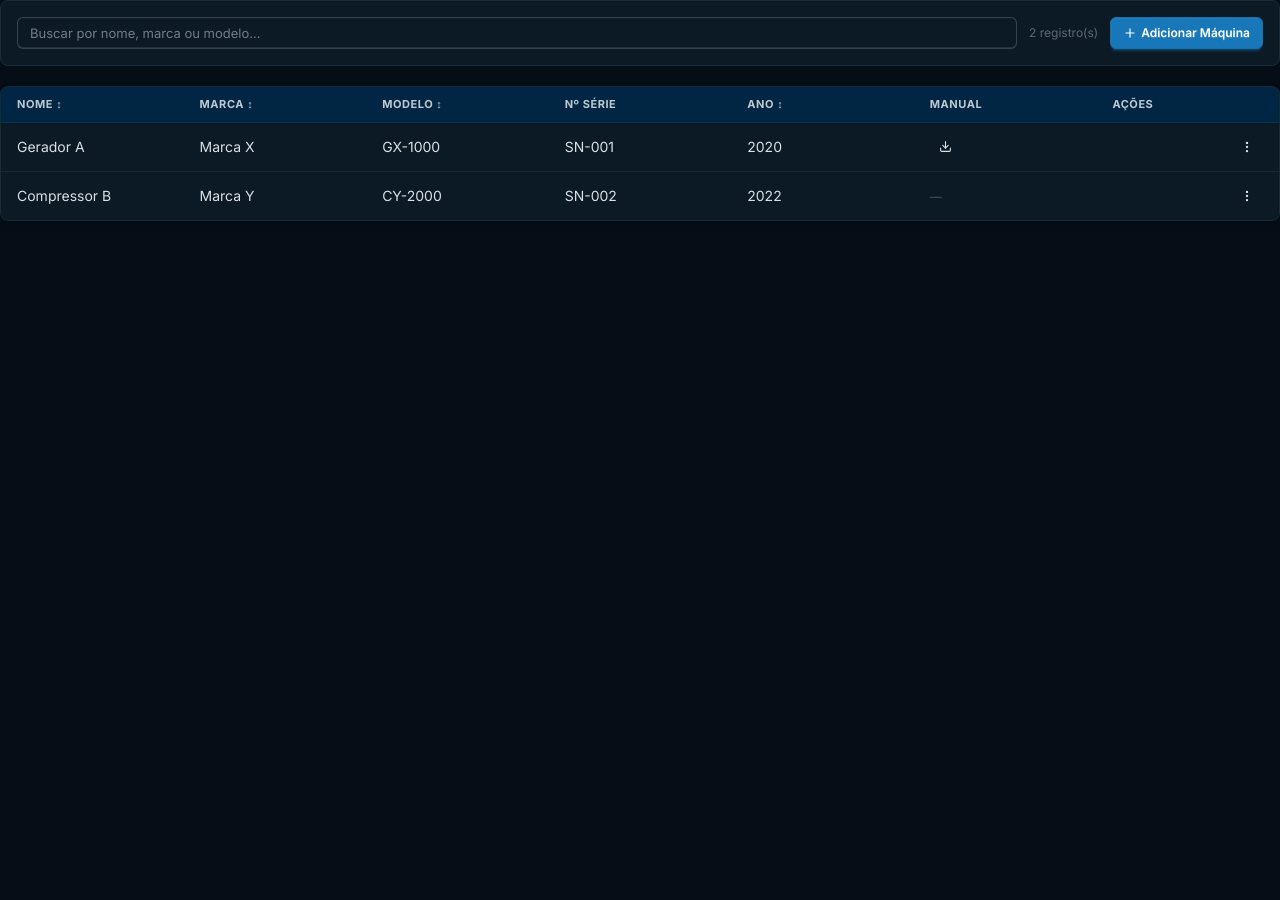
it: cancels delete confirmation
Click the 1st button named "Ações": {"x": 1247, "y": 147} [1231,135,1263,159]
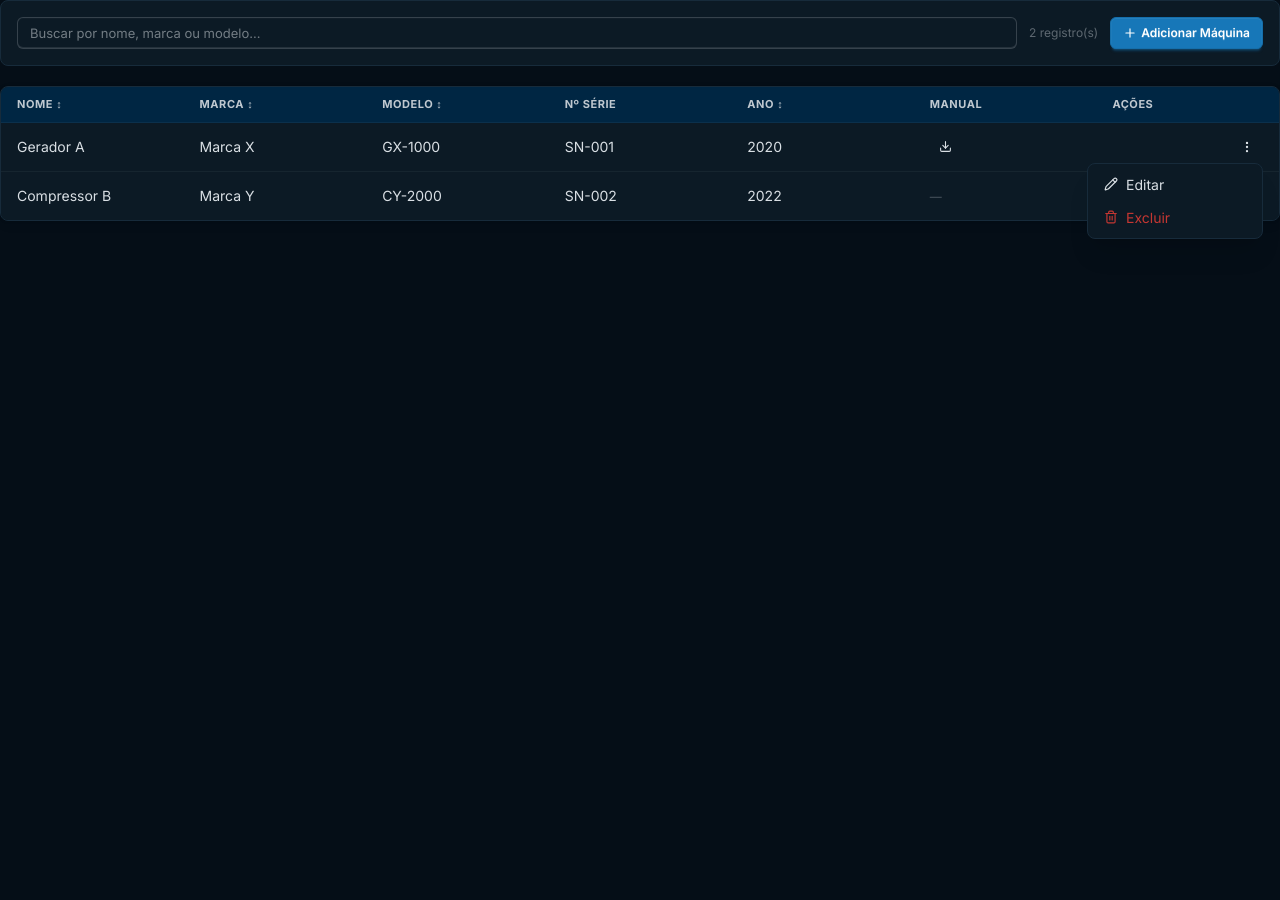
Click the button "Excluir": {"x": 1175, "y": 217} [1092,201,1258,234]
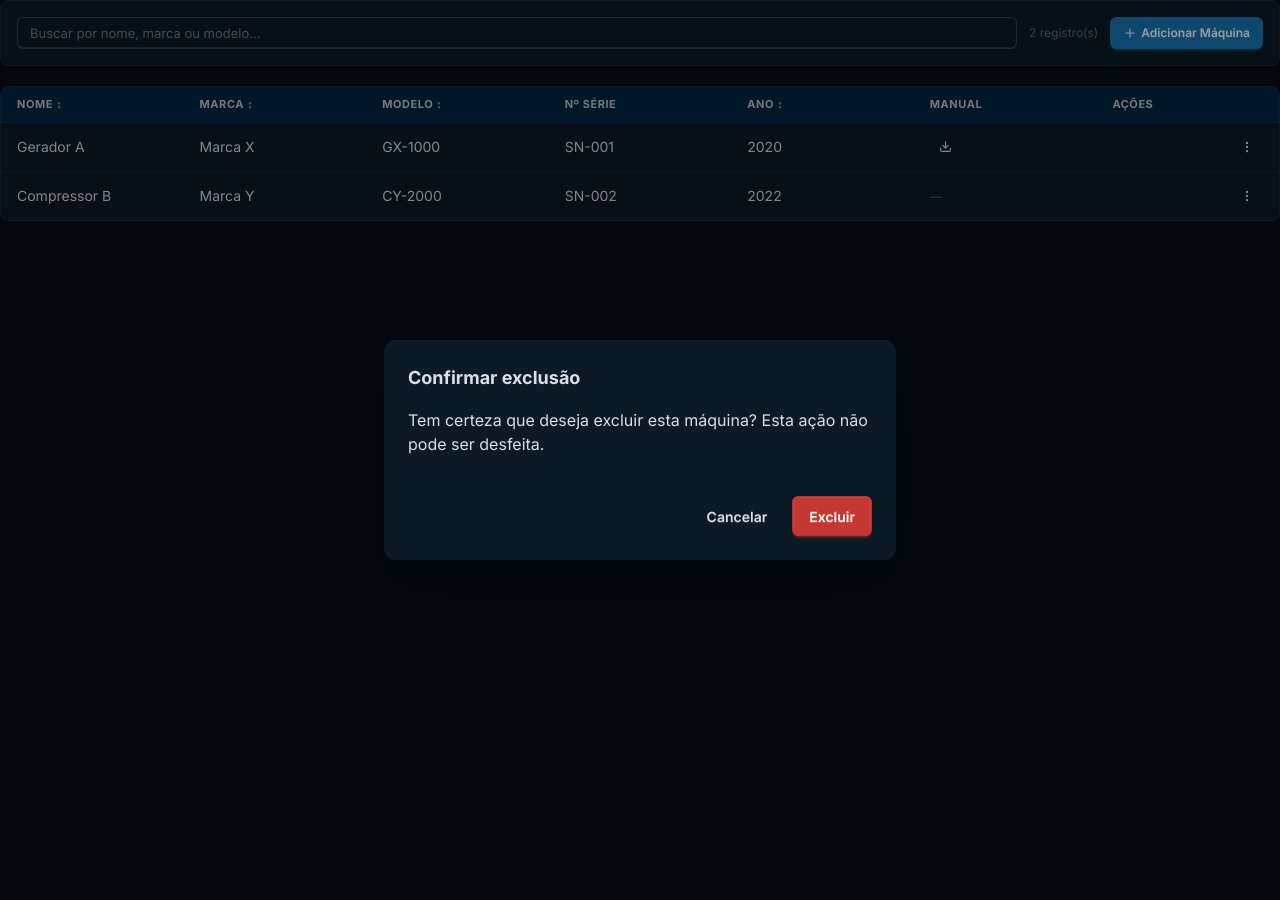
Click the button "Cancelar": {"x": 737, "y": 516} [690,496,784,536]
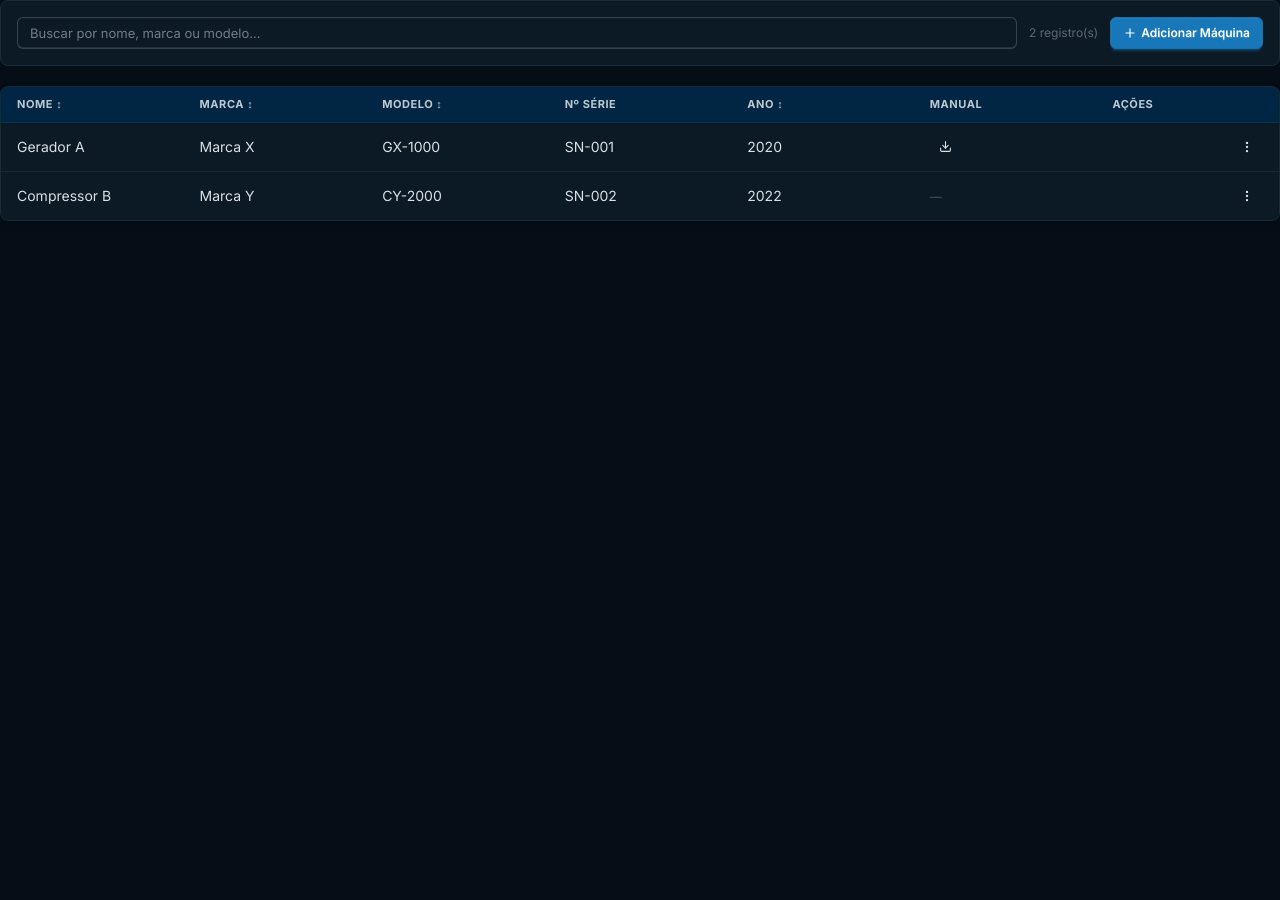
Check: the heading "Confirmar exclusão" is gone
